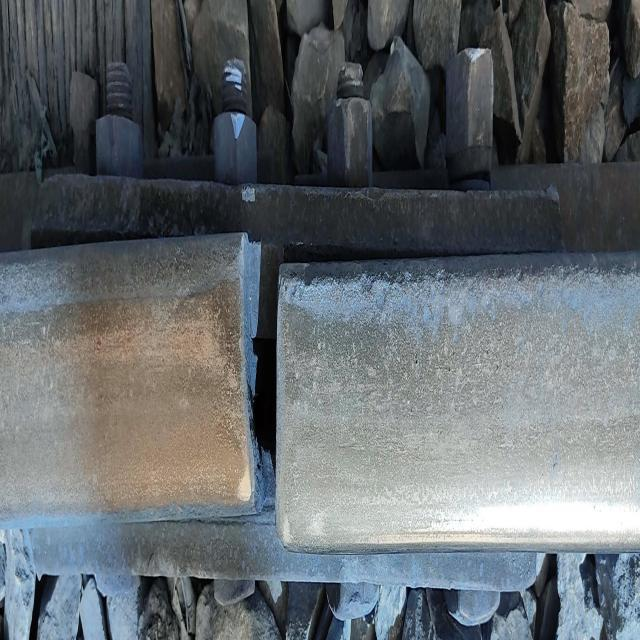broken_rail_low: (228, 235, 305, 552)
